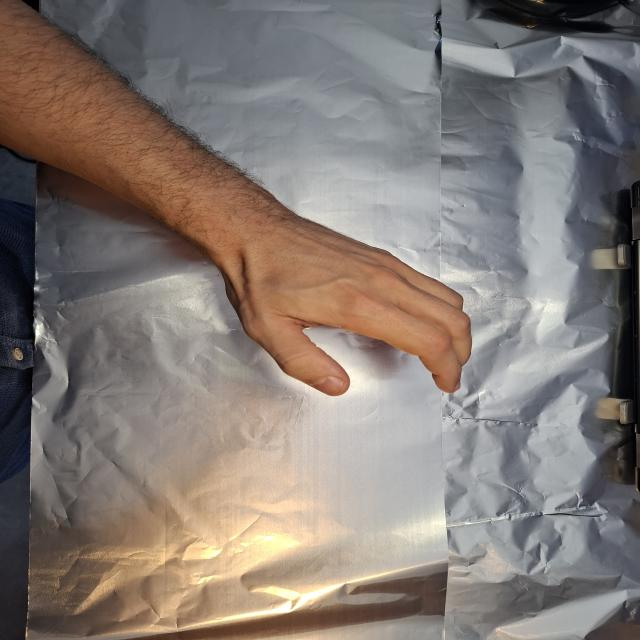glove_off: (200, 200, 476, 399)
